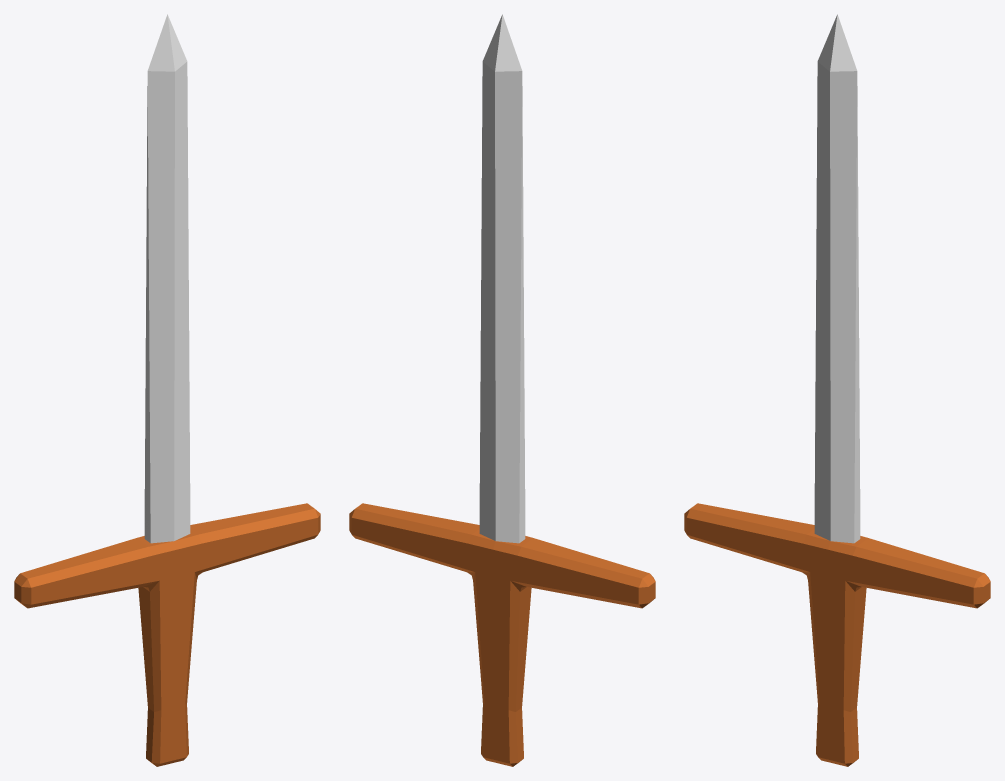
The model's file is New Sword.fbx.
The picture shows the model from 3 angles, left to right: view 1: azimuth 30°, elevation 25°; view 2: azimuth 150°, elevation 25°; view 3: azimuth 330°, elevation 25°; orthographic projection.
Visible parts, largest first — view 1: Cube; view 2: Cube; view 3: Cube.
Boxes of the visible parts, bbox=[...] form: Cube: bbox=[14, 14, 320, 766]; Cube: bbox=[349, 14, 655, 766]; Cube: bbox=[684, 14, 990, 766].
Bounding box in the file's own units: 1200 × 2863 × 136.
